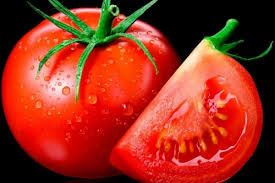tomate: (34, 21, 253, 176)
